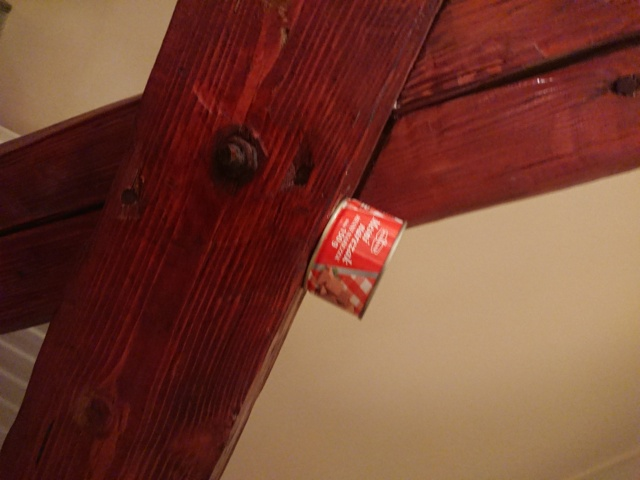Podravka Luncheon Meat 150g: (298, 192, 410, 323)
